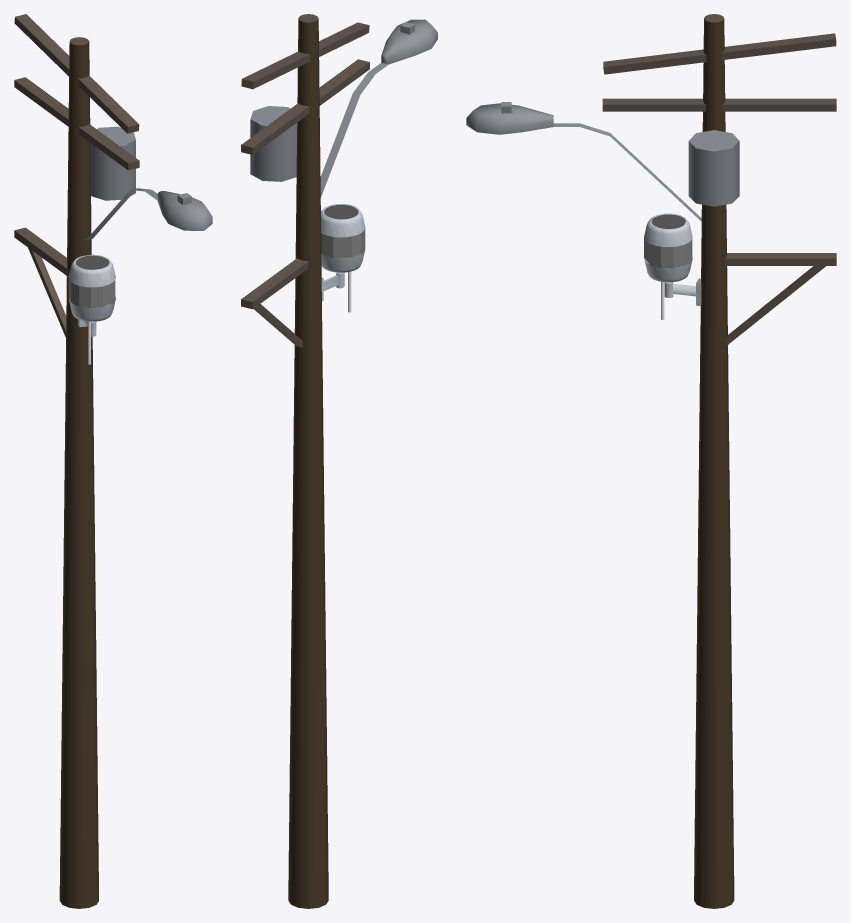
The model's file is UtilityPole.dae.
The picture shows the model from 3 angles, left to right: view 1: azimuth 30°, elevation 25°; view 2: azimuth 150°, elevation 25°; view 3: azimuth 270°, elevation 25°; orthographic projection. The views are drawn at different scales.
Visible parts, largest first — view 1: _24FtPole1, Model, Group1, Lamp01_1, BA200, Top, Group2, Bottom; view 2: _24FtPole1, Model, Lamp01_1, Group1, Group2, BA200, Top, Bottom; view 3: _24FtPole1, Model, Group1, Lamp01_1, Group2, BA200, Top.
Boxes of the visible parts, x1,y1,x2,y2 form: _24FtPole1: (59,37,98,908); Model: (14,14,139,337); Group1: (90,126,135,200); Lamp01_1: (86,188,212,240); BA200: (68,278,115,308); Top: (68,254,115,287); Group2: (14,227,66,275); Bottom: (68,296,115,321); _24FtPole1: (288,14,328,908); Model: (241,22,369,347); Lamp01_1: (320,19,437,197); Group1: (250,106,297,181); Group2: (241,258,308,309); BA200: (321,228,365,258); Top: (321,204,365,237); Bottom: (321,249,365,272); _24FtPole1: (694,14,734,908); Model: (602,33,836,345); Group1: (688,130,739,206); Lamp01_1: (466,102,701,221); Group2: (724,253,836,265); BA200: (644,237,692,268); Top: (644,213,692,247).
Bounding box in the file's own units: 29.46 × 110 × 288.
